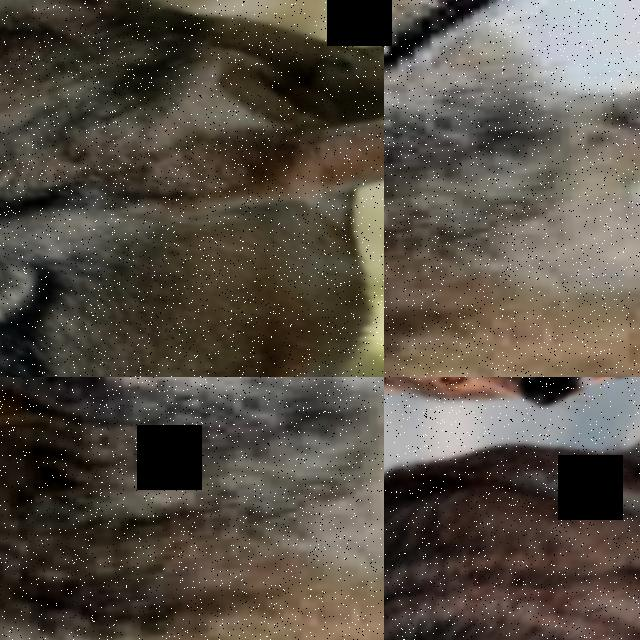wolf: (0, 0, 384, 377), (0, 377, 384, 640), (384, 0, 640, 377), (384, 377, 640, 640), (384, 377, 640, 479)
